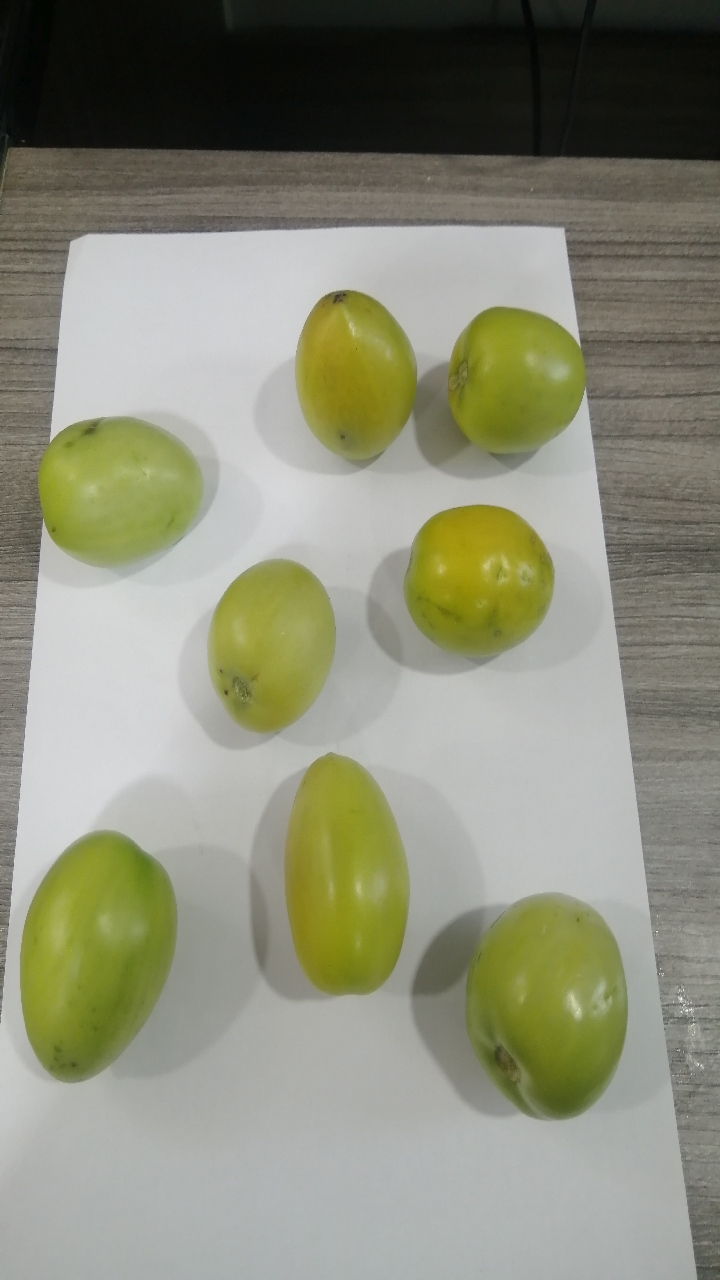tomateVerde: (446, 872, 648, 1146), (4, 815, 194, 1105), (263, 740, 418, 1023), (174, 543, 372, 755), (14, 391, 223, 582), (426, 259, 609, 471), (383, 482, 571, 666), (275, 262, 424, 480)
